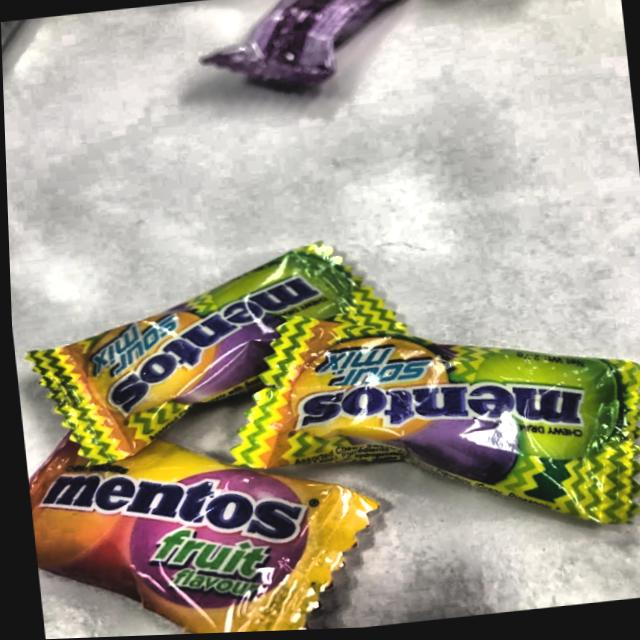Plastic: (243, 292, 640, 529), (18, 388, 383, 640), (30, 238, 428, 437)
